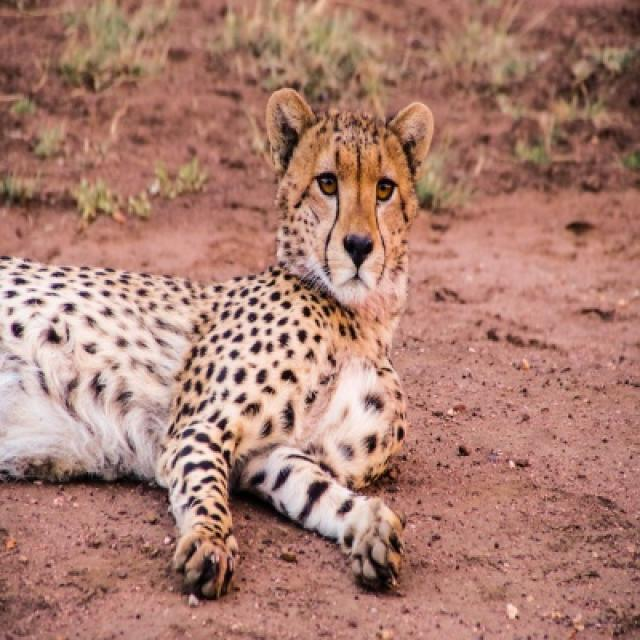Cheetah: (0, 90, 432, 605)
